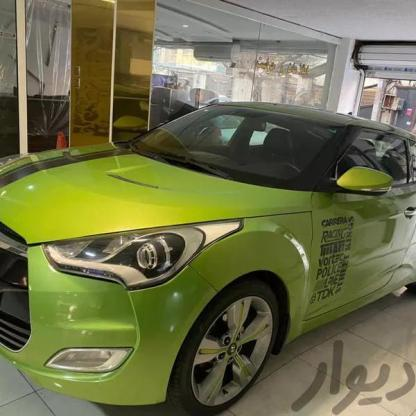Car: (0, 95, 416, 412)
